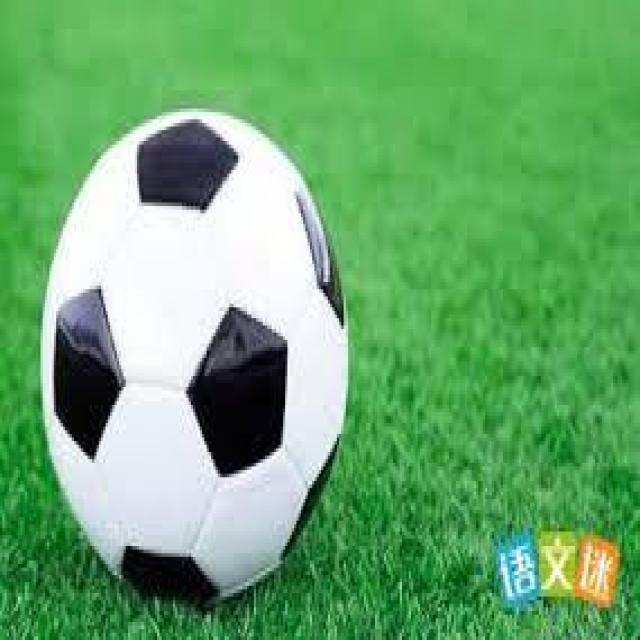Soccer Ball: (43, 109, 350, 600)
